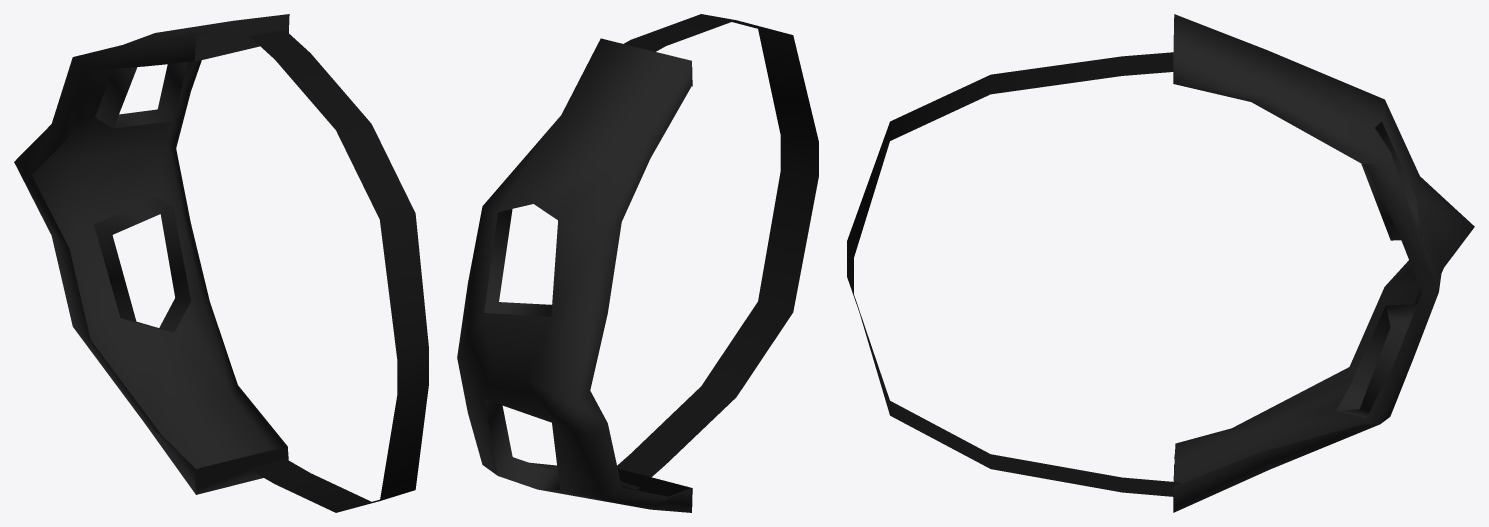
Rendered from F_Eyes Mask.fbx.
3 renders of one model, left to right at view 1: azimuth 30°, elevation 25°; view 2: azimuth 150°, elevation 25°; view 3: azimuth 270°, elevation 25°, orthographic.
Parts seen in each view (by area): view 1: F_HockeyMask; view 2: F_HockeyMask; view 3: F_HockeyMask.
Boxes of the visible parts, x1,y1,x2,y2 form: F_HockeyMask: [14, 14, 428, 512]; F_HockeyMask: [457, 14, 818, 512]; F_HockeyMask: [847, 14, 1474, 512].
Bounding box in the file's own units: 0.0367 × 0.1157 × 0.1446.
